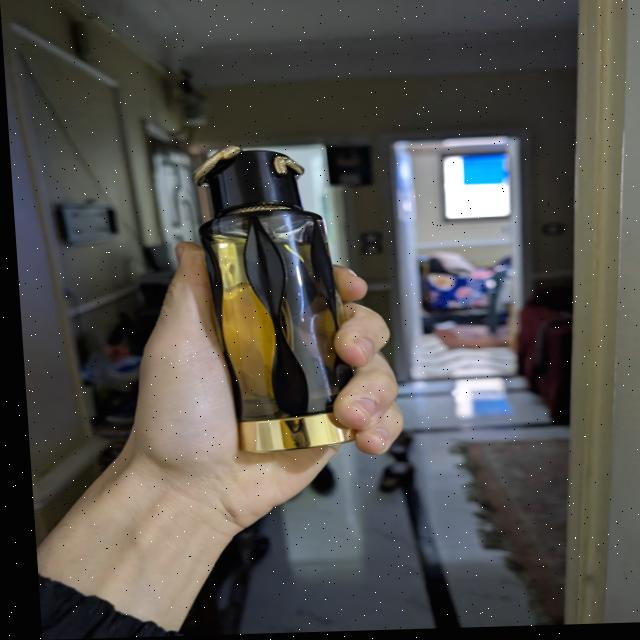Teriaq-Intense: (186, 144, 355, 456)
